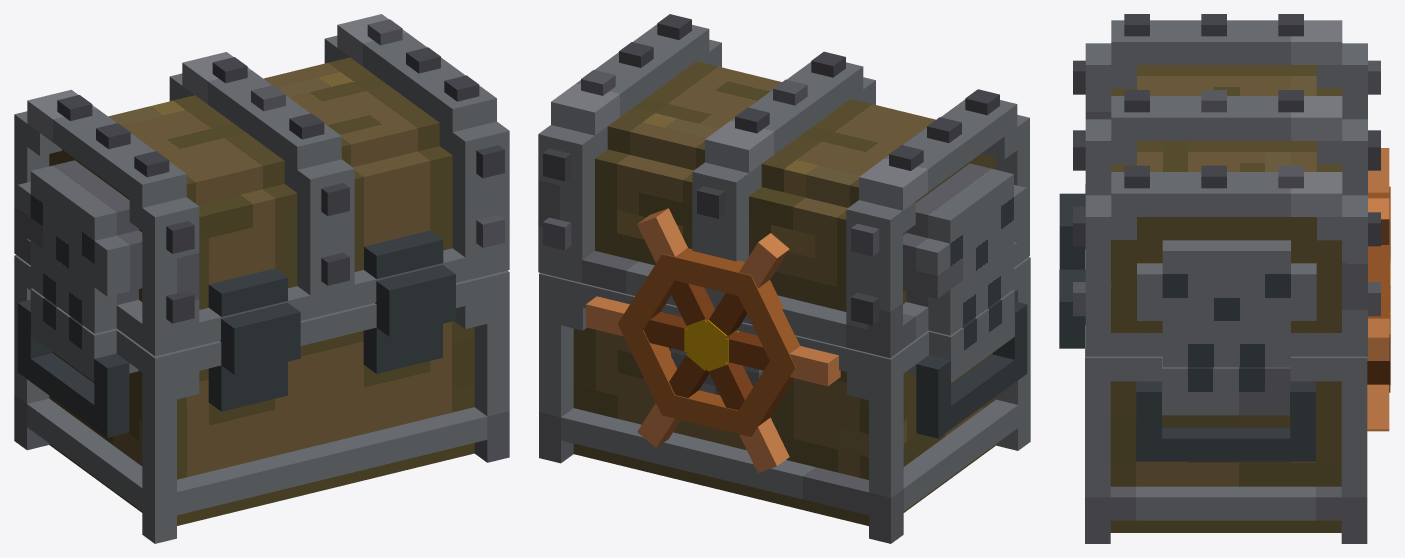
The model's file is chestblackbeardv01_1x1x1.gltf.
The picture shows the model from 3 angles, left to right: view 1: azimuth 30°, elevation 25°; view 2: azimuth 150°, elevation 25°; view 3: azimuth 270°, elevation 25°; orthographic projection.
Parts seen in each view (by area): view 1: top-Local, Chest-Local, top2-Local; view 2: top-Local, Chest-Local, top2-Local, loclk3$$(1)-Local, O1$$(1)-Local, loclk2$$(1)-Local, lock2-Local, O2$$(1)-Local, O3$$(1)-Local; view 3: top-Local, Chest-Local, top2-Local, O3$$(1)-Local, lock2-Local, O2$$(1)-Local, loclk3$$(1)-Local, O1$$(1)-Local.
Part boxes in pixels (bbox=[...]): top-Local: bbox=[14, 14, 509, 356]; Chest-Local: bbox=[14, 255, 509, 543]; top2-Local: bbox=[57, 19, 504, 323]; top-Local: bbox=[538, 24, 1029, 357]; Chest-Local: bbox=[539, 257, 1030, 543]; top2-Local: bbox=[543, 14, 999, 325]; loclk3$$(1)-Local: bbox=[618, 276, 800, 414]; O1$$(1)-Local: bbox=[637, 208, 789, 472]; loclk2$$(1)-Local: bbox=[662, 248, 750, 436]; lock2-Local: bbox=[618, 254, 795, 436]; O2$$(1)-Local: bbox=[586, 296, 840, 386]; O3$$(1)-Local: bbox=[637, 233, 789, 447]; top-Local: bbox=[1085, 20, 1367, 367]; Chest-Local: bbox=[1059, 184, 1367, 543]; top2-Local: bbox=[1073, 14, 1380, 316]; O3$$(1)-Local: bbox=[1367, 148, 1389, 431]; lock2-Local: bbox=[1368, 230, 1390, 332]; O2$$(1)-Local: bbox=[1367, 318, 1389, 360]; loclk3$$(1)-Local: bbox=[1367, 246, 1390, 392]; O1$$(1)-Local: bbox=[1368, 198, 1389, 244].
Bounding box in the file's own units: 18.02 × 15.57 × 12.9.
9 materials, 9 textured.
